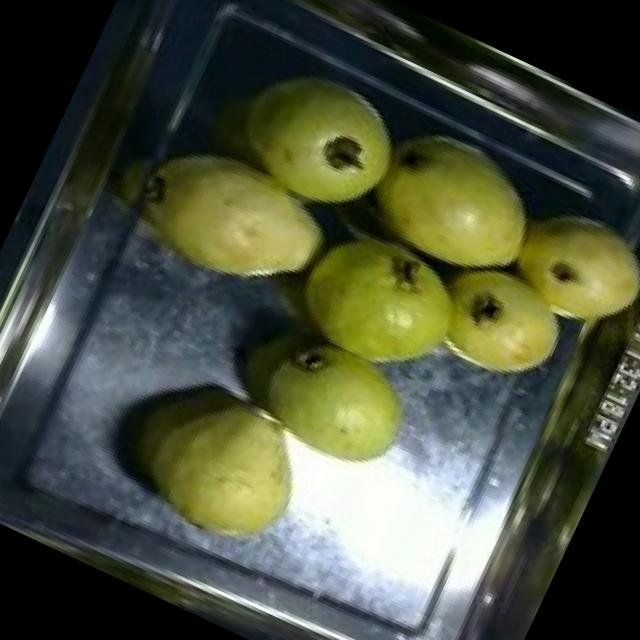Fruit: (84, 342, 334, 576), (115, 115, 358, 328), (192, 299, 434, 500), (333, 94, 564, 292), (216, 41, 434, 240), (268, 204, 486, 394), (398, 224, 596, 408), (484, 183, 640, 359)
